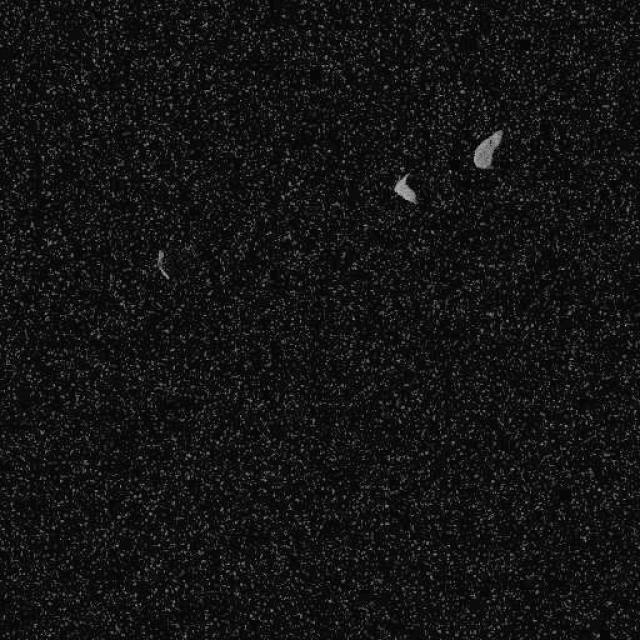D2: (472, 128, 502, 170), (392, 171, 418, 205), (154, 248, 171, 280)
